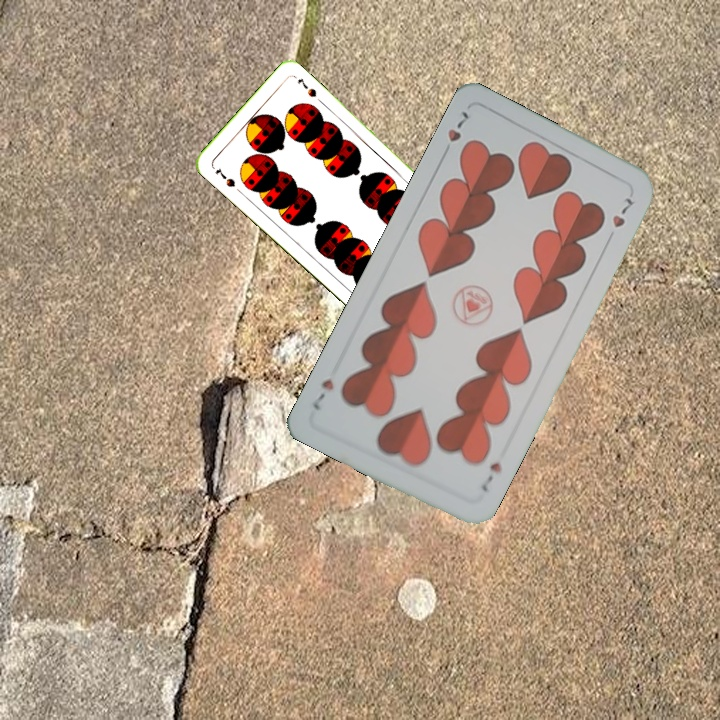H7: (438, 106, 472, 160), (476, 457, 505, 495)
S7: (212, 163, 238, 190)
